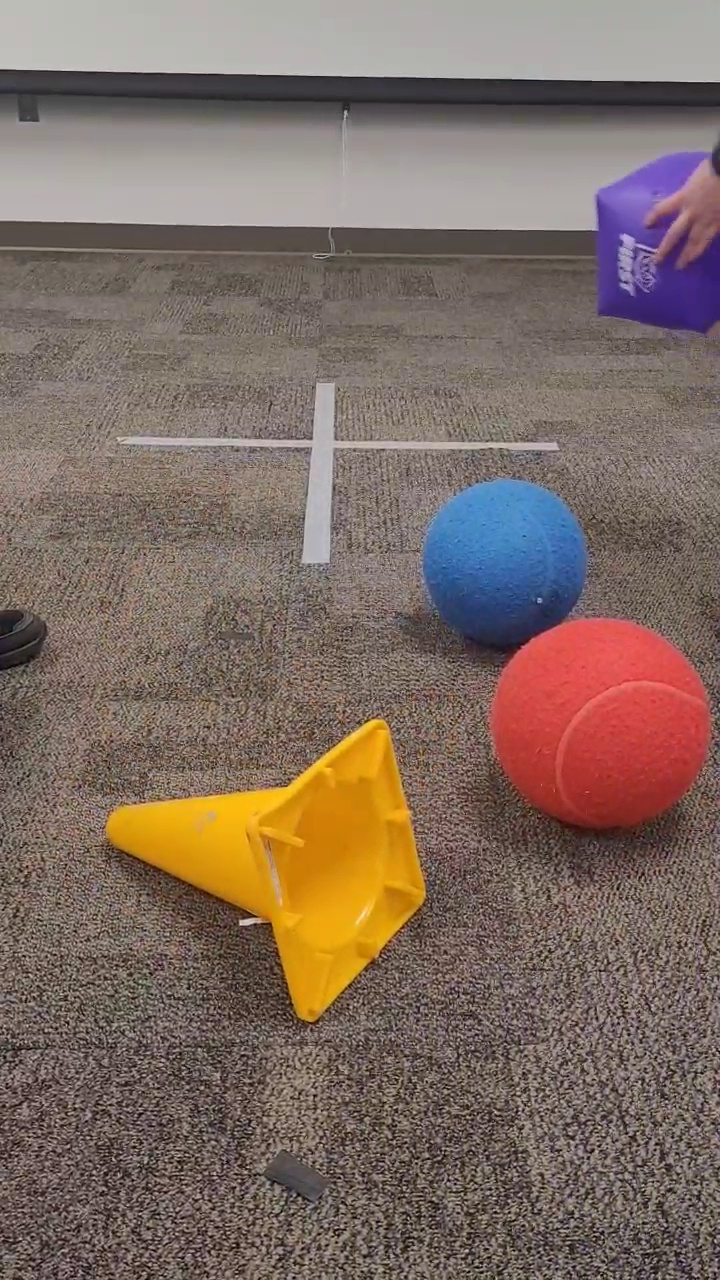ball: (486, 614, 712, 834), (417, 476, 589, 647)
cone: (101, 712, 431, 1026)
cube: (589, 148, 720, 339)
foot: (1, 599, 52, 675)
hand: (639, 147, 720, 274)
